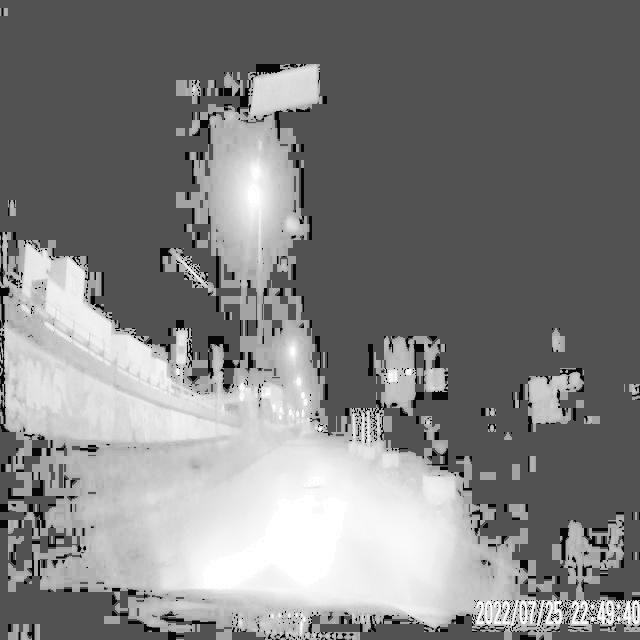Pothole: (294, 468, 331, 503), (154, 546, 184, 576)
